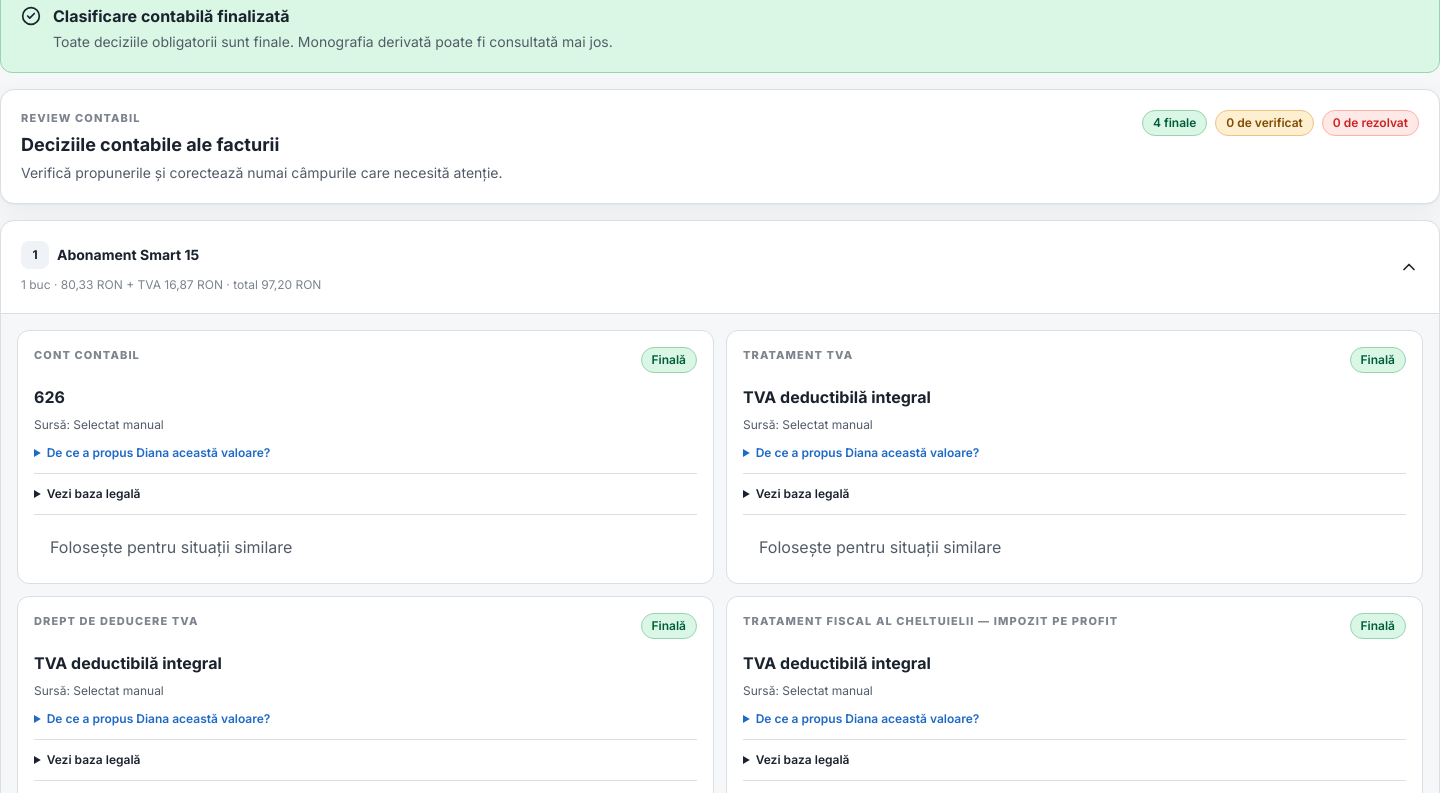
Test: review contabil V2 unificat › oferă reuse numai după decizia finală și cere confirmarea scope-ului exact
Click the button "Folosește pentru situații similare" below "626". click: point(171, 546)
box: [34, 526, 308, 566]
(page scrolled)
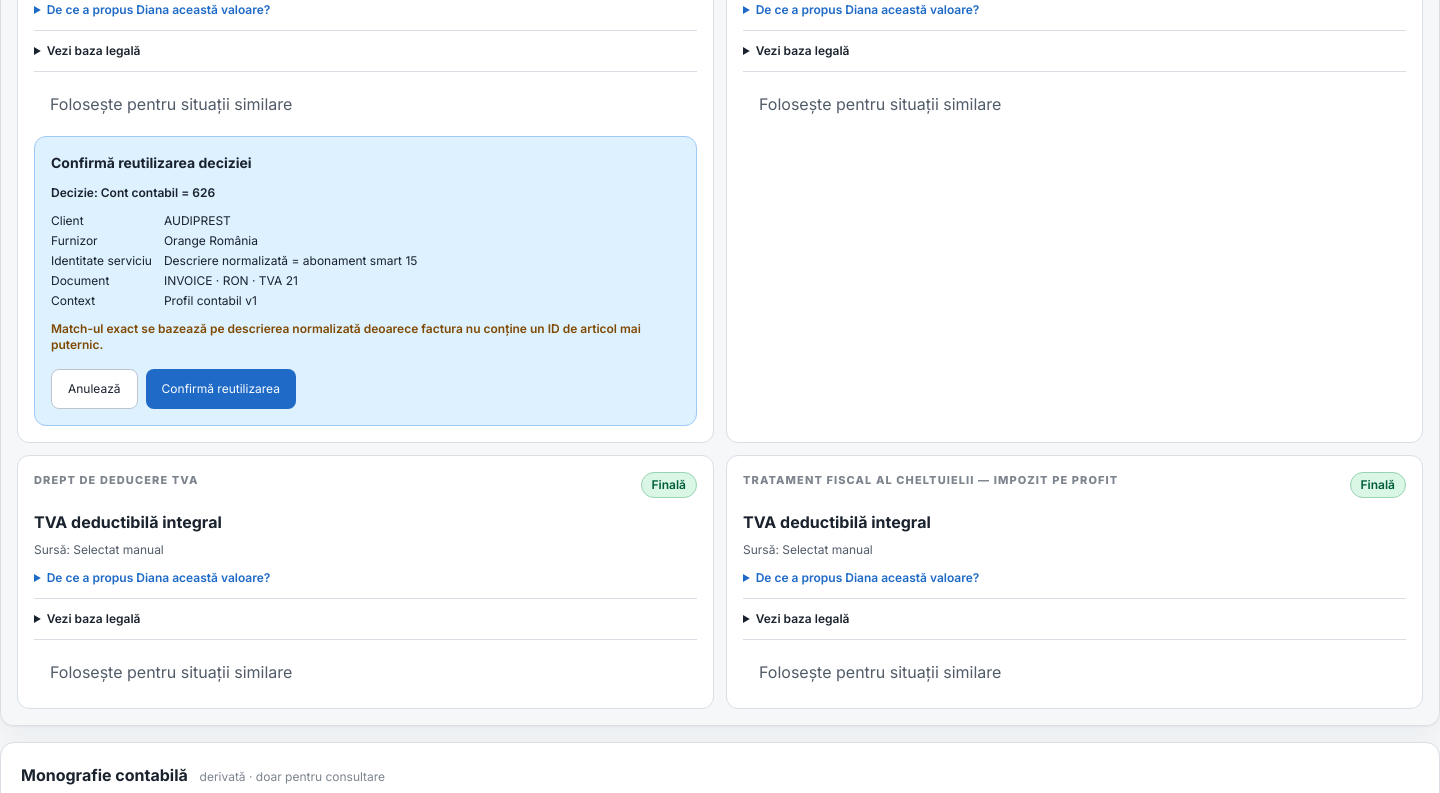
Expected: the dialog "Confirmă reutilizarea deciziei" shows "Descriere normalizată = abonament smart 15", [34, 136, 697, 426]
Click the button "Confirmă reutilizarea". click: point(221, 388)
box: [146, 368, 296, 408]
(page scrolled)
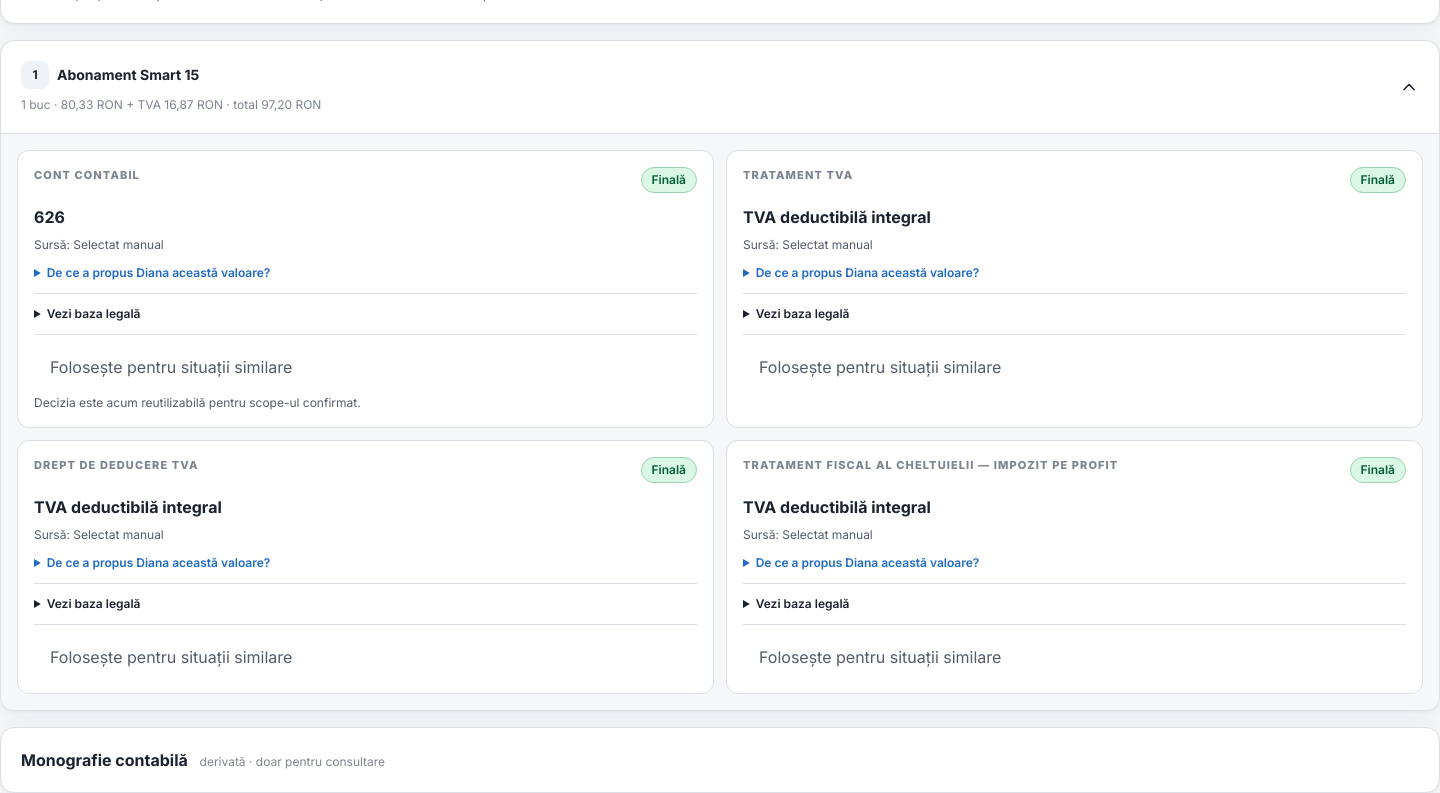
Expected: the text "Decizia este acum reutilizabilă pentru scope-ul confirmat." is shown, [34, 394, 361, 410]
